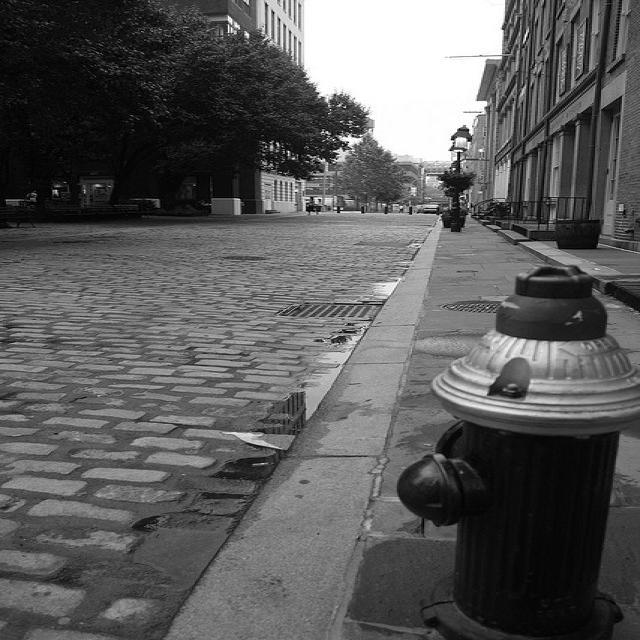fire_hydrant: (395, 263, 640, 639)
